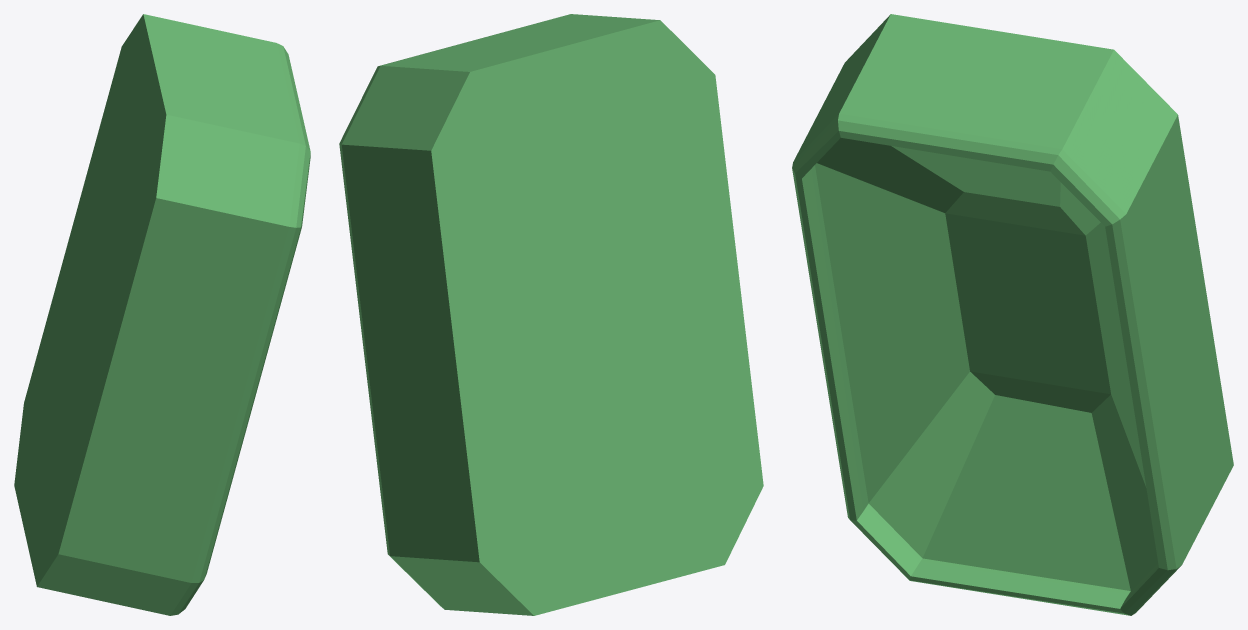
Rendered from TR4_8shapes_Emerald_Classic_Metal.001 3.glb.
3 views of the same model, side by side, from view 1: azimuth 30°, elevation 25°; view 2: azimuth 150°, elevation 25°; view 3: azimuth 270°, elevation 25° (orthographic). The views are drawn at different scales.
Parts seen in each view (by area): view 1: TR4_8shapes_Emerald_Classic_Metal.001; view 2: TR4_8shapes_Emerald_Classic_Metal.001; view 3: TR4_8shapes_Emerald_Classic_Metal.001.
Boxes of the visible parts, x1,y1,x2,y2 form: TR4_8shapes_Emerald_Classic_Metal.001: (14,14,310,615); TR4_8shapes_Emerald_Classic_Metal.001: (339,14,763,615); TR4_8shapes_Emerald_Classic_Metal.001: (792,14,1233,615).
Bounding box in the file's own units: 0.4175 × 0.672 × 0.4778.
